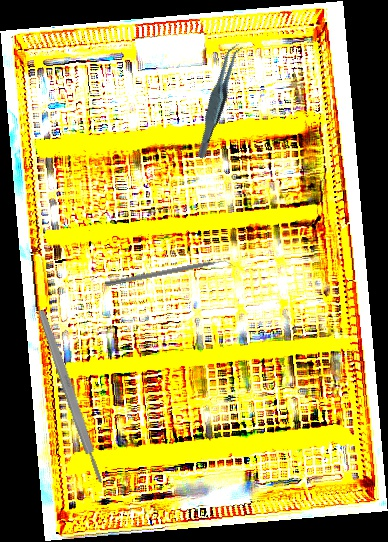Chopper: (104, 256, 236, 294)
Scalpel Handle: (35, 308, 106, 485)
Tissue Forceps: (174, 41, 263, 160)
